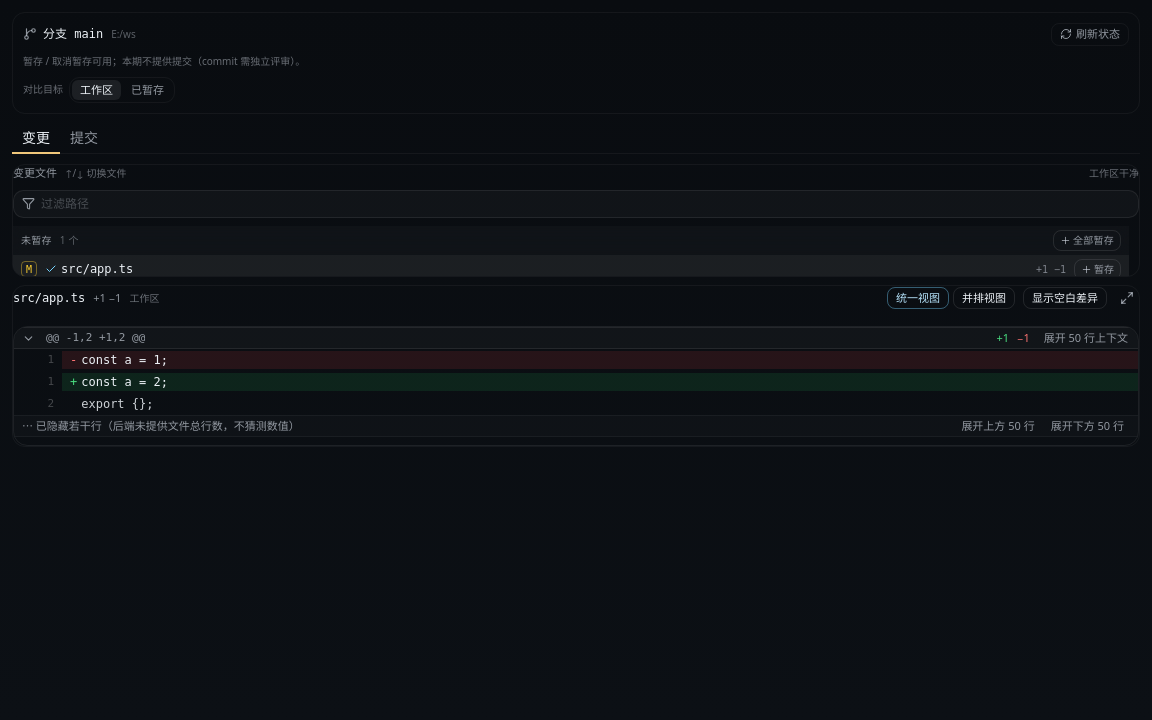
Test: GitSurface 放大 diff 视图 › 小窗口保留原样；放大面板复用同一份 diff，且不再挂扩展入口（不套娃）
Check: the element with test id "git-diff-rows" is shown, box 13,326 -> 1139,446
Click the button with test id "git-diff-expand". click: (1127, 298)
box: 1115,286 -> 1139,310
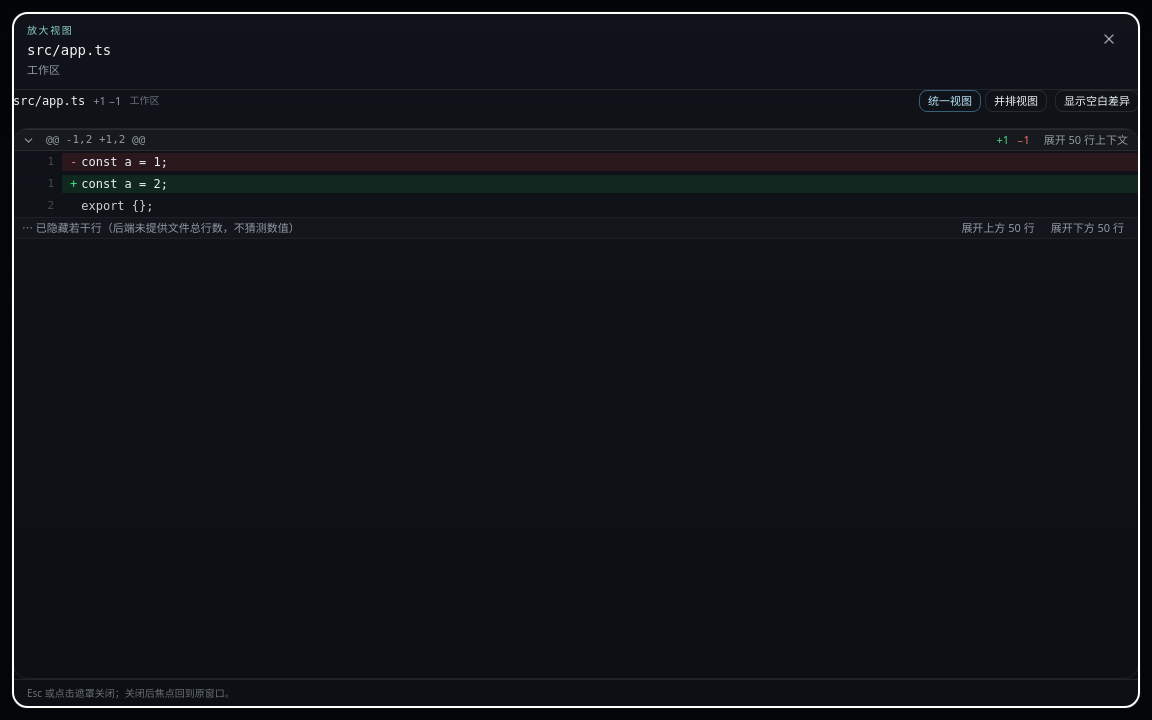
Check: the dialog with test id "git-diff-expanded" is shown
Check: the dialog with test id "git-diff-expanded" shows "src/app.ts", box 27,42 -> 111,58
Check: the element with test id "git-diff-rows" that starts with "展开 50 行上下文" is shown
